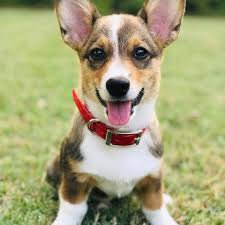dog: (54, 2, 191, 225)
